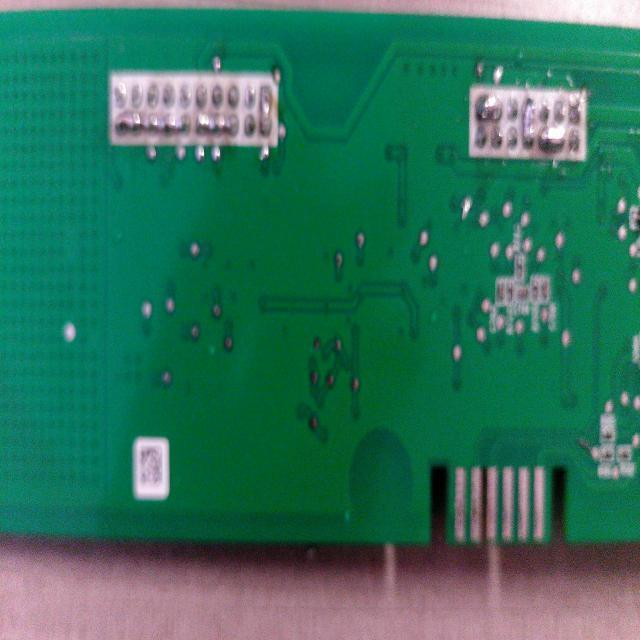Soldering shorted: (113, 108, 193, 140), (194, 108, 242, 144), (256, 77, 276, 144), (540, 126, 570, 160), (473, 94, 505, 120), (521, 100, 536, 148)
